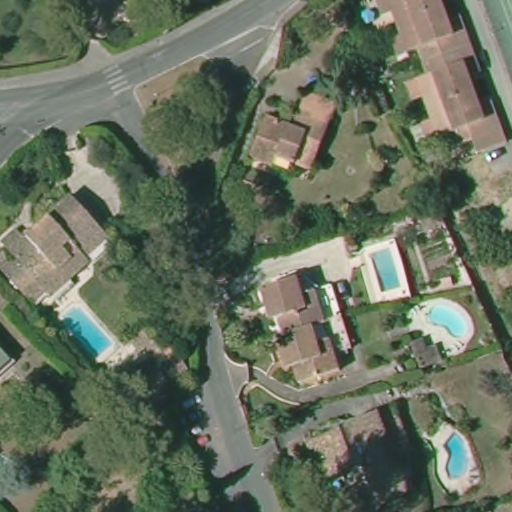pool: (54, 299, 122, 370), (431, 421, 481, 488), (364, 241, 410, 299), (419, 301, 475, 342)
